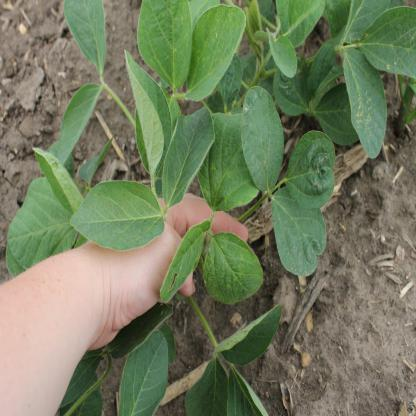Soyabean leaf: (68, 180, 166, 252), (162, 104, 216, 212), (271, 186, 327, 279), (343, 46, 387, 163), (137, 0, 193, 88), (240, 85, 284, 192), (201, 232, 263, 306), (362, 3, 416, 83), (284, 130, 335, 208)
